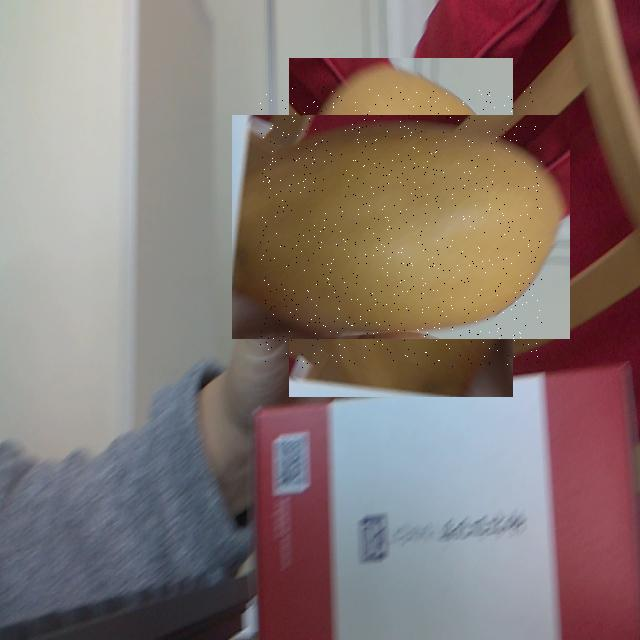pear: (260, 87, 542, 368)
